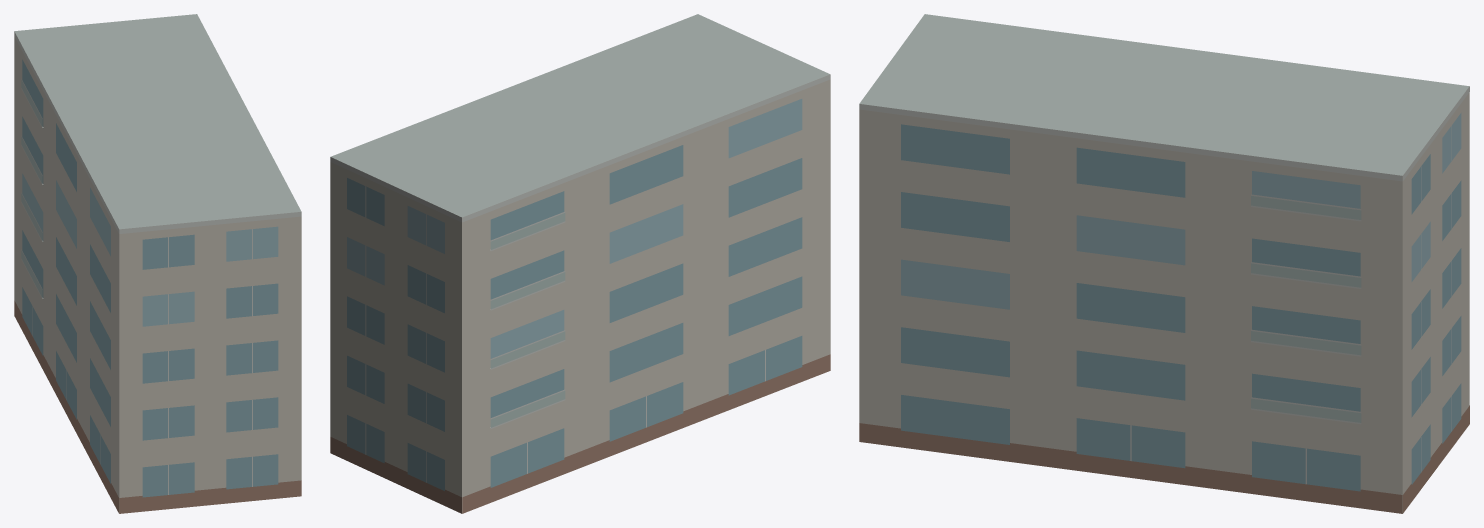
File: survey-upis-32768364.glb
3 views of the same model, side by side, from view 1: azimuth 30°, elevation 25°; view 2: azimuth 150°, elevation 25°; view 3: azimuth 270°, elevation 25° (orthographic). The views are drawn at different scales.
Parts seen in each view (by area): view 1: survey-upis-32768364.tmp; view 2: survey-upis-32768364.tmp; view 3: survey-upis-32768364.tmp.
Part boxes in pixels (box(x1,y1,x2,y2)): survey-upis-32768364.tmp: box(14, 14, 301, 513); survey-upis-32768364.tmp: box(330, 14, 830, 513); survey-upis-32768364.tmp: box(859, 14, 1469, 513).
Size of the model in its own units: 14.9 by 14.5 by 23.74.
